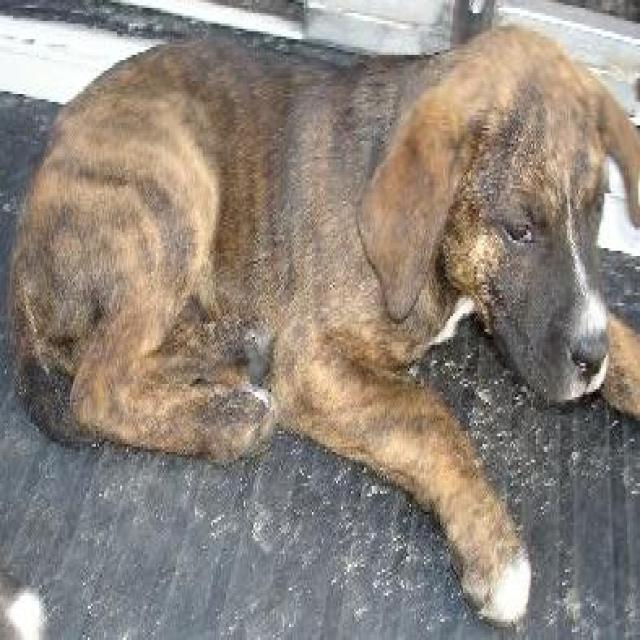Dogs: (6, 21, 637, 627)
